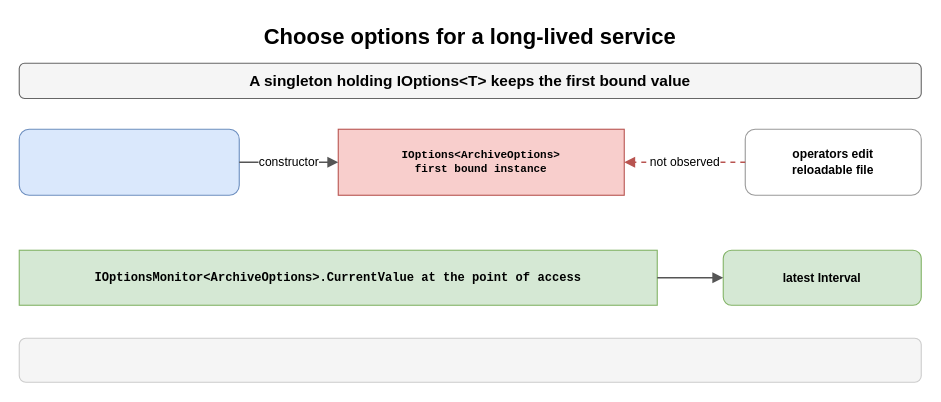
The diagram is 941 pixels wide and 402 high, and some of its shapes have lost their labels. The centre of each missing label's shape, as x and y in pixels:
ArchiveService singleton: pixel 128 161
IOptionsSnapshot<T> is scoped and does not belong in a singleton: pixel 469 359
